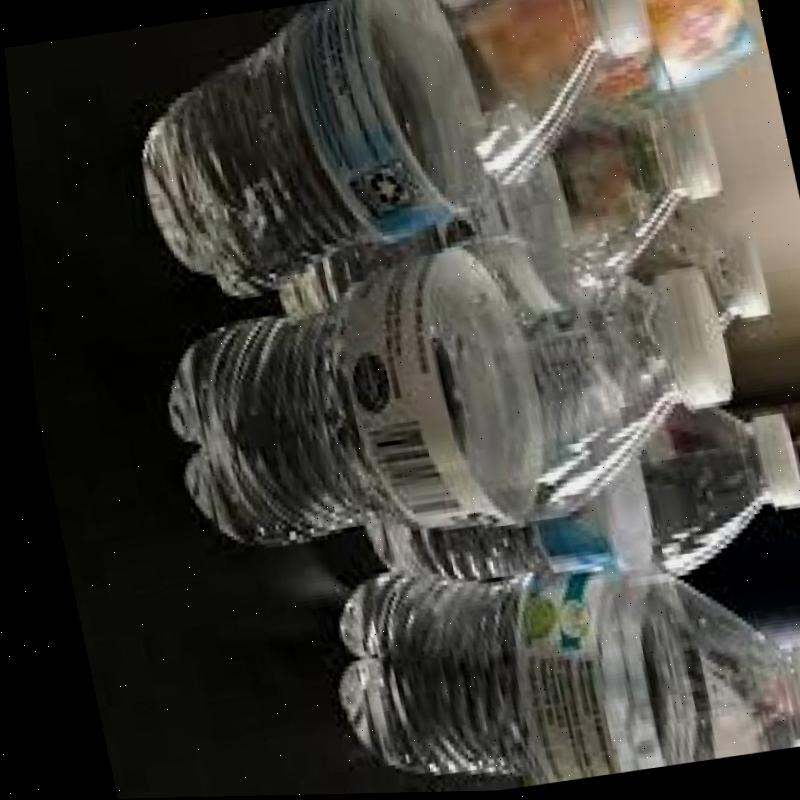botella: (130, 202, 752, 577), (103, 0, 688, 280), (295, 515, 800, 795), (233, 60, 733, 329), (337, 389, 800, 621), (612, 205, 771, 352)
